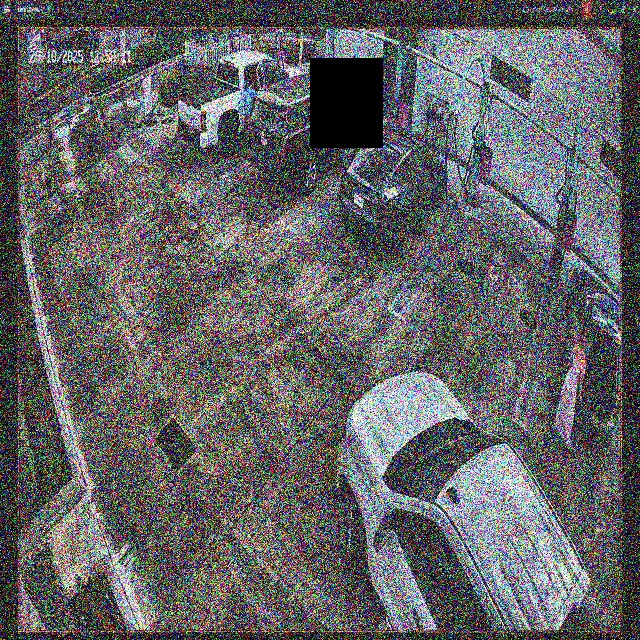Car: (338, 359, 593, 630), (247, 78, 375, 189), (341, 128, 446, 256), (174, 55, 302, 153)
